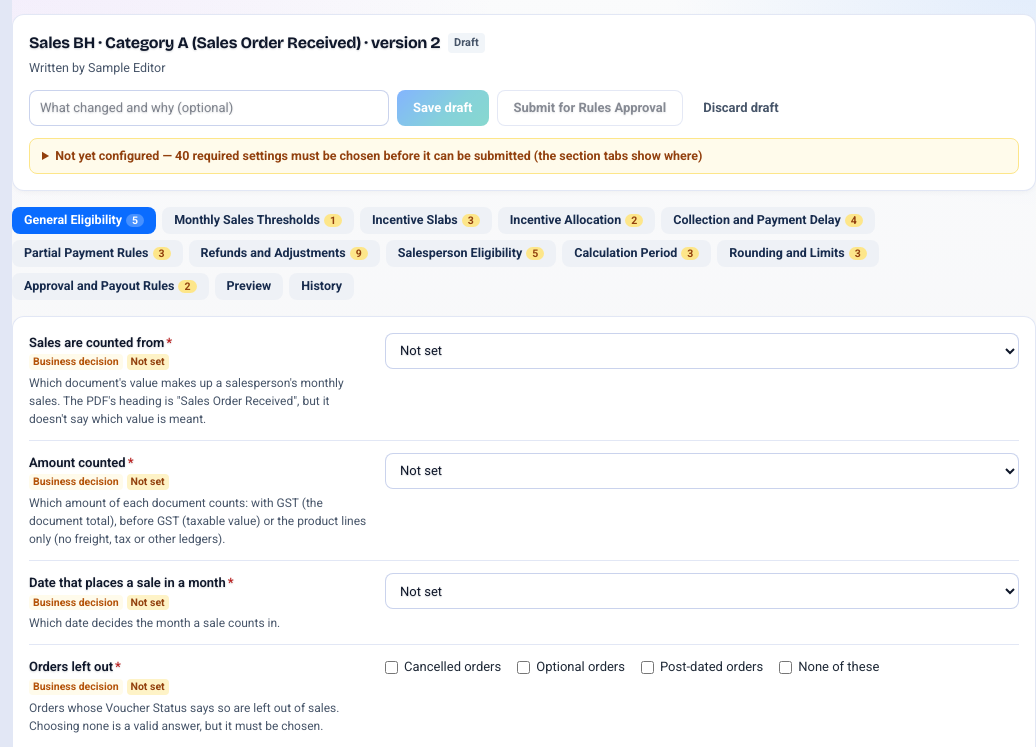
Test: the version editor › a wrong value is caught as you type and Save stays off
The width and height of the screenshot is (1036, 747).
Click the tab "Incentive Slabs3": click(426, 221) 360,207 -> 492,234
(page scrolled)
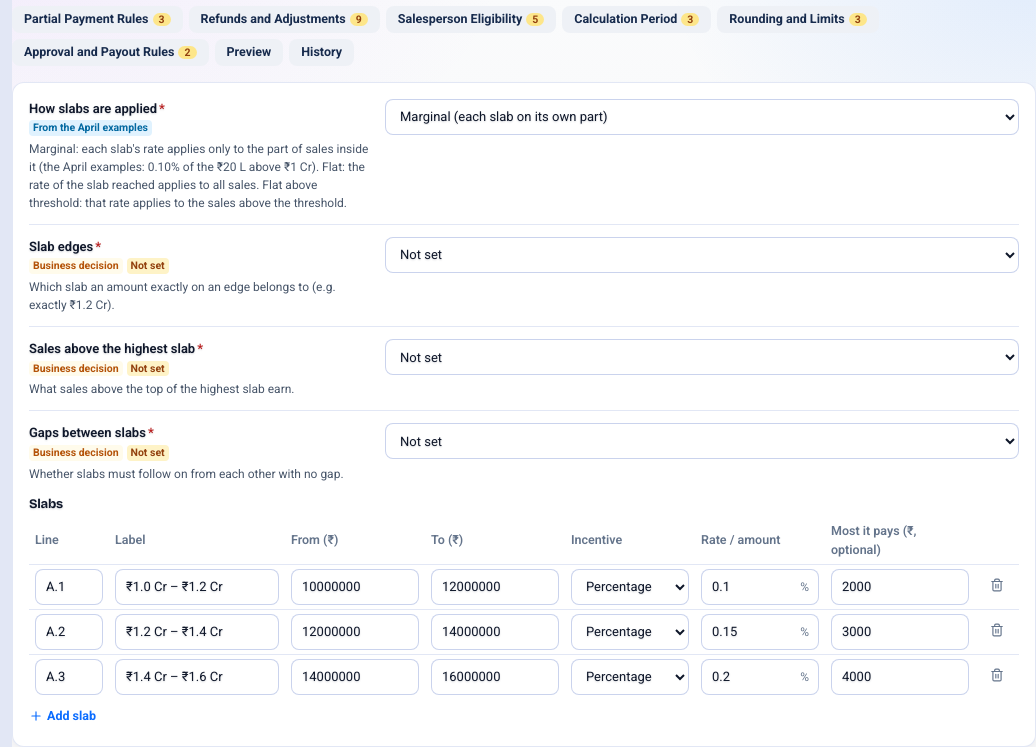
Replace the text in the field named "Slab 2 from" with "11000000": (355, 632) 291,614 -> 419,650
(page scrolled)
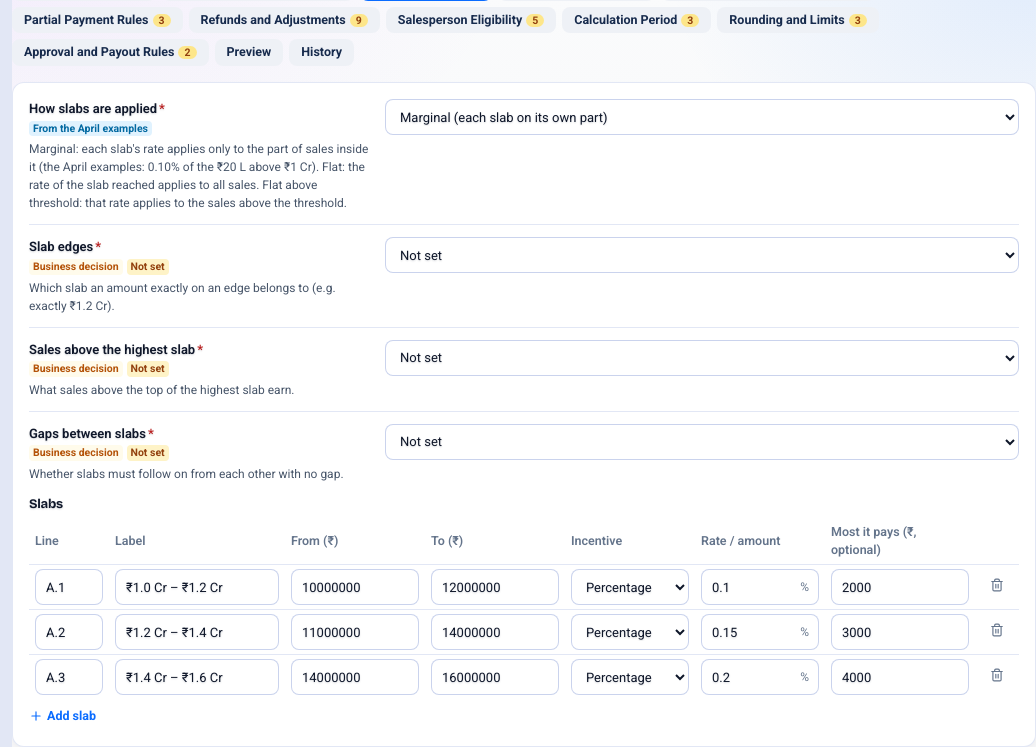
Replace the text in the field named "Slab 2 from" with "1000": (355, 632) 291,614 -> 419,650
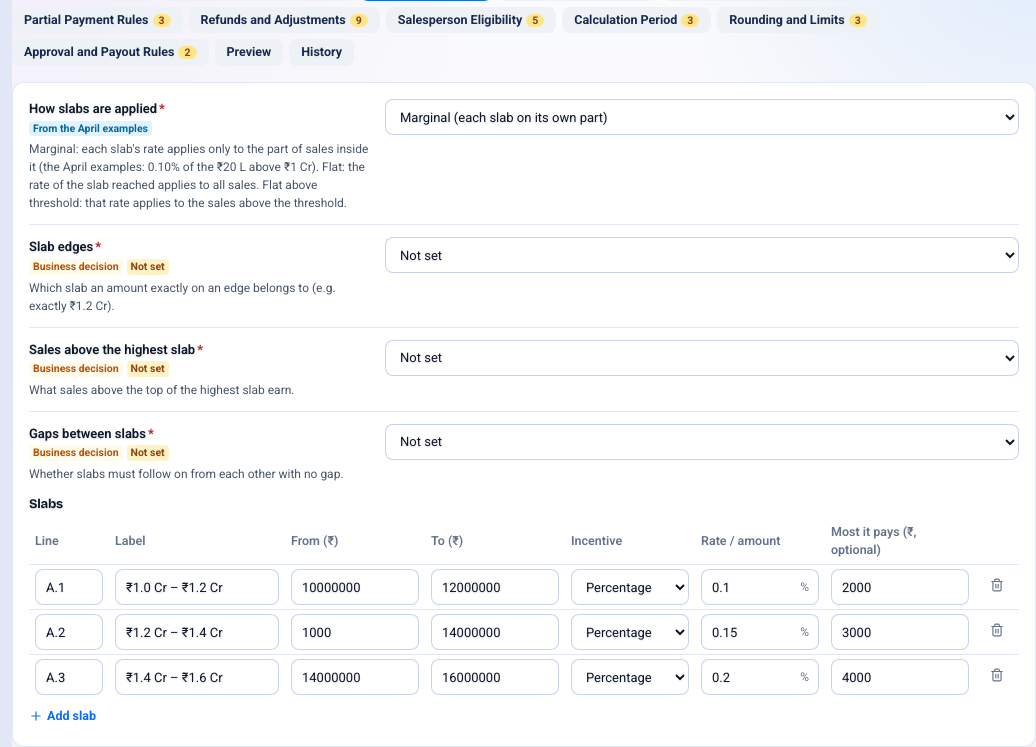
Replace the text in the field named "Slab 1 rate" with "abc": (760, 587) 701,569 -> 819,605
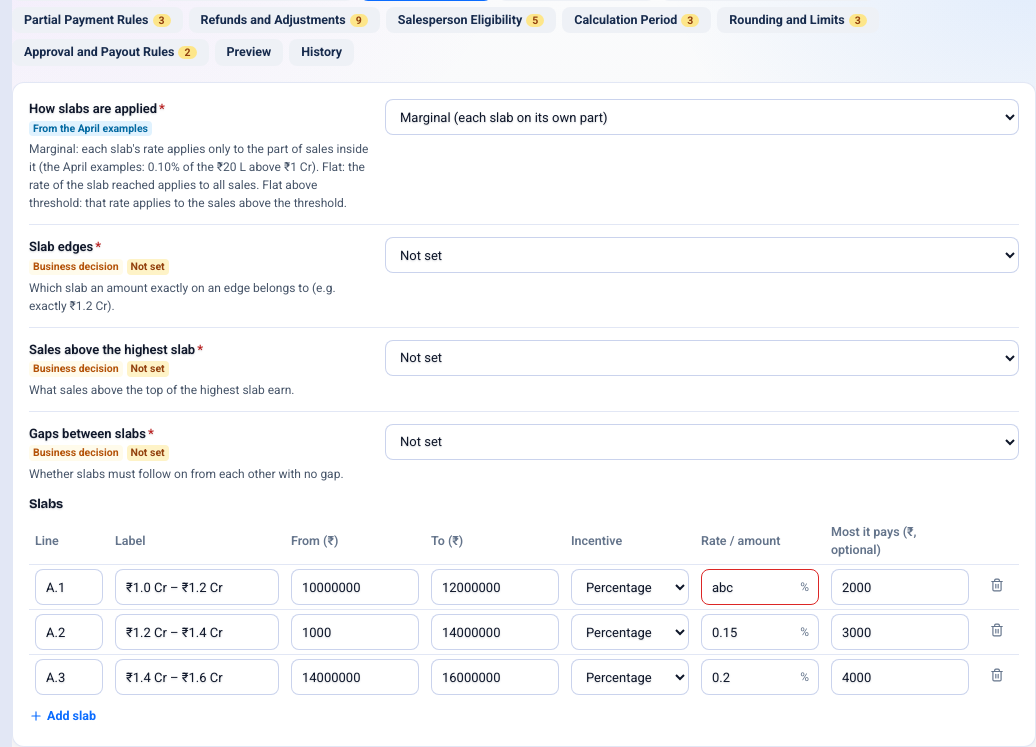
Now the field named "Slab 1 rate" is marked as invalid, box 701,569 -> 819,605
